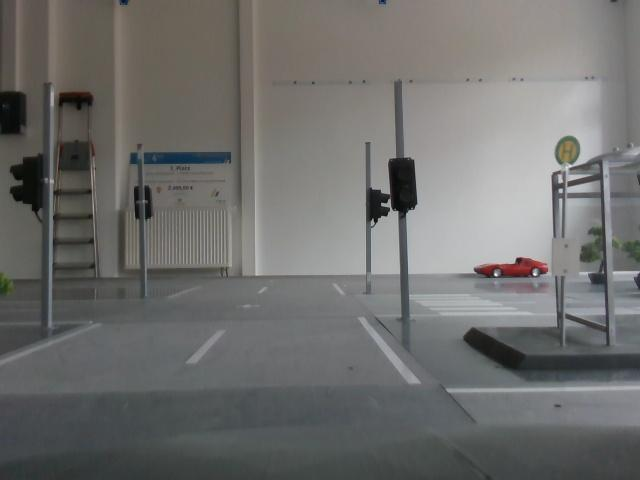car: (477, 247, 553, 287)
potted plant: (583, 228, 620, 293)
traffic light: (8, 151, 59, 211), (385, 153, 427, 214), (366, 191, 388, 228)
